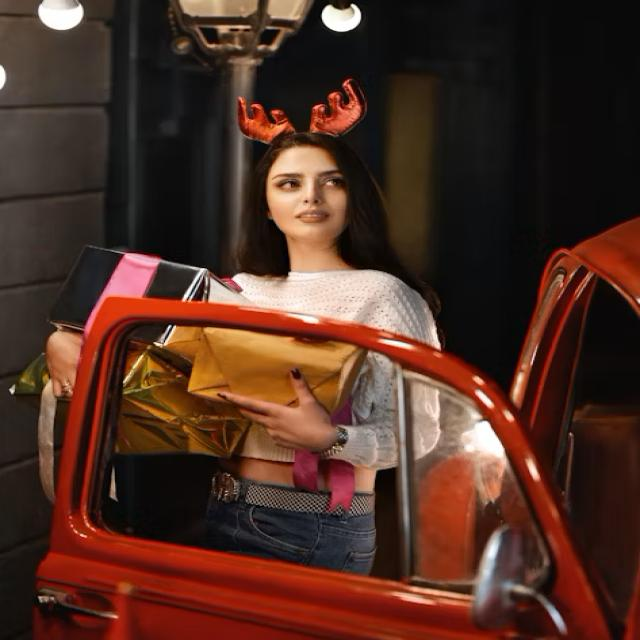Edited images: (114, 123, 472, 627)
